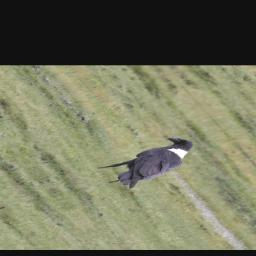Crow: (87, 134, 217, 191)
